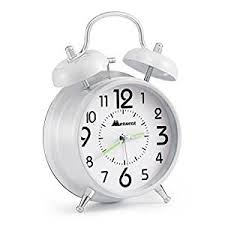alarm_clock: (41, 11, 180, 209), (48, 11, 180, 209), (48, 16, 180, 209)
